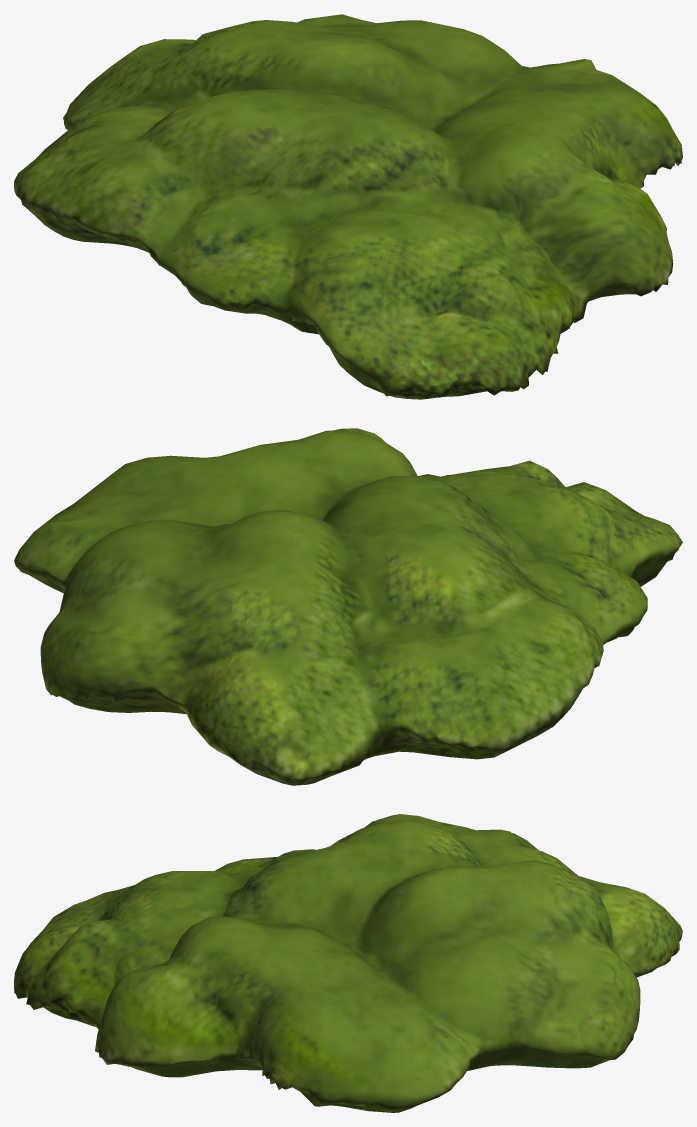
Rendered from Piso_Musgo_2.glb.
3 views of the same model, one above another, from view 1: azimuth 30°, elevation 25°; view 2: azimuth 150°, elevation 25°; view 3: azimuth 270°, elevation 25° (orthographic). The views are drawn at different scales.
Visible parts, largest first — view 1: Piso Musgo 2; view 2: Piso Musgo 2; view 3: Piso Musgo 2.
Boxes of the visible parts, bbox=[...] form: Piso Musgo 2: bbox=[14, 14, 682, 399]; Piso Musgo 2: bbox=[14, 428, 682, 785]; Piso Musgo 2: bbox=[14, 814, 682, 1112].
Size of the model in its own units: 0.2522 by 0.0756 by 0.2829.
Materials: 1 (1 with a texture image).
